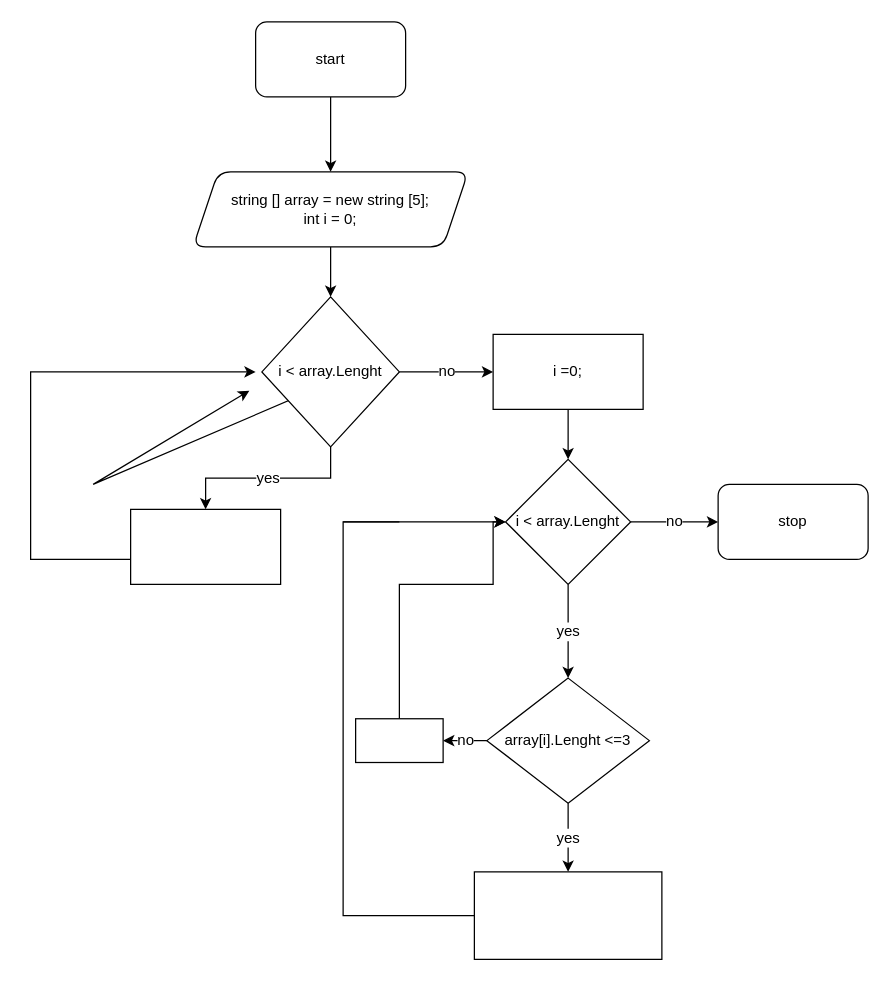
This 890x981 diagram has some shape labels left out. The centre of each missing label's shape, as x and y in pixels:
array[i] = Console.ReadLine(); i++;: (x=205, y=546)
Console.Write(array[i]); i++;: (x=567, y=915)
i++;: (x=398, y=740)
